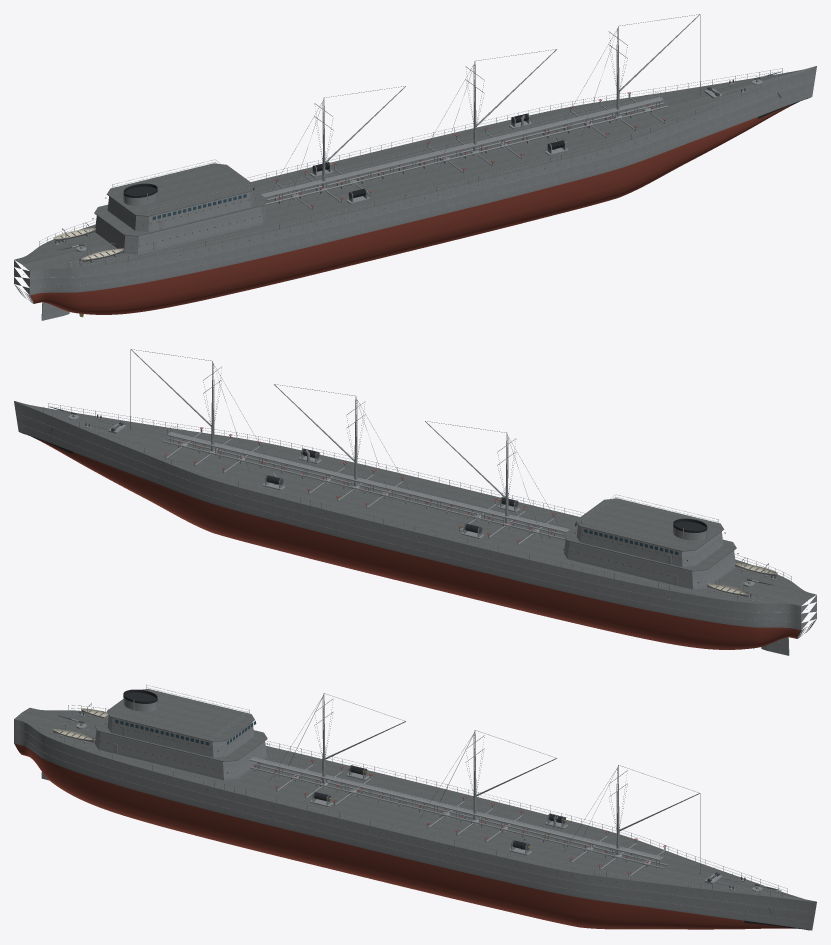
Rendered from uk_support_1942.glb.
3 views of the same model, one above another, from view 1: azimuth 30°, elevation 25°; view 2: azimuth 150°, elevation 25°; view 3: azimuth 330°, elevation 25° (orthographic).
Visible parts, largest first — view 1: Fleet support ship · 1942; view 2: Fleet support ship · 1942; view 3: Fleet support ship · 1942.
Part boxes in pixels (<box>): Fleet support ship · 1942: <box>14,14,816,320</box>; Fleet support ship · 1942: <box>14,349,816,655</box>; Fleet support ship · 1942: <box>14,684,816,930</box>.
Bounding box in the file's own units: 154 × 29.11 × 19.09.
Materials: 9 (2 with a texture image).
